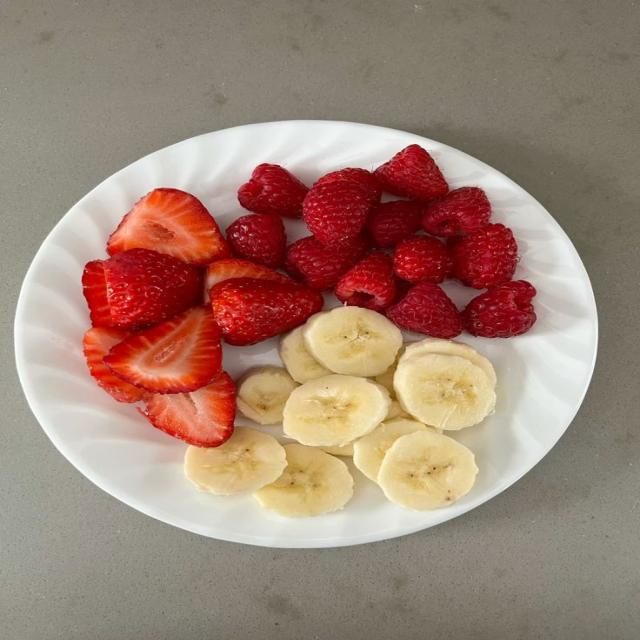banana slice: (377, 430, 478, 510), (394, 353, 495, 429), (283, 375, 390, 446), (254, 444, 353, 517), (185, 427, 286, 495), (304, 307, 401, 376), (354, 419, 430, 481), (403, 338, 496, 386), (237, 366, 298, 424), (279, 326, 332, 383), (374, 343, 410, 398), (385, 400, 415, 422), (385, 400, 412, 421), (320, 443, 353, 456)
raspberry: (283, 236, 367, 291), (303, 179, 371, 246), (449, 223, 517, 288), (385, 282, 462, 339), (374, 144, 448, 202), (462, 281, 536, 337), (238, 163, 308, 217), (335, 251, 397, 311), (421, 187, 491, 236), (227, 213, 286, 268), (393, 235, 451, 283), (365, 200, 422, 247), (312, 168, 381, 206)
strawberry sliced: (105, 307, 221, 394), (83, 248, 201, 329), (107, 189, 230, 266), (210, 279, 323, 346), (137, 372, 235, 447), (84, 327, 143, 401), (204, 258, 295, 302)
